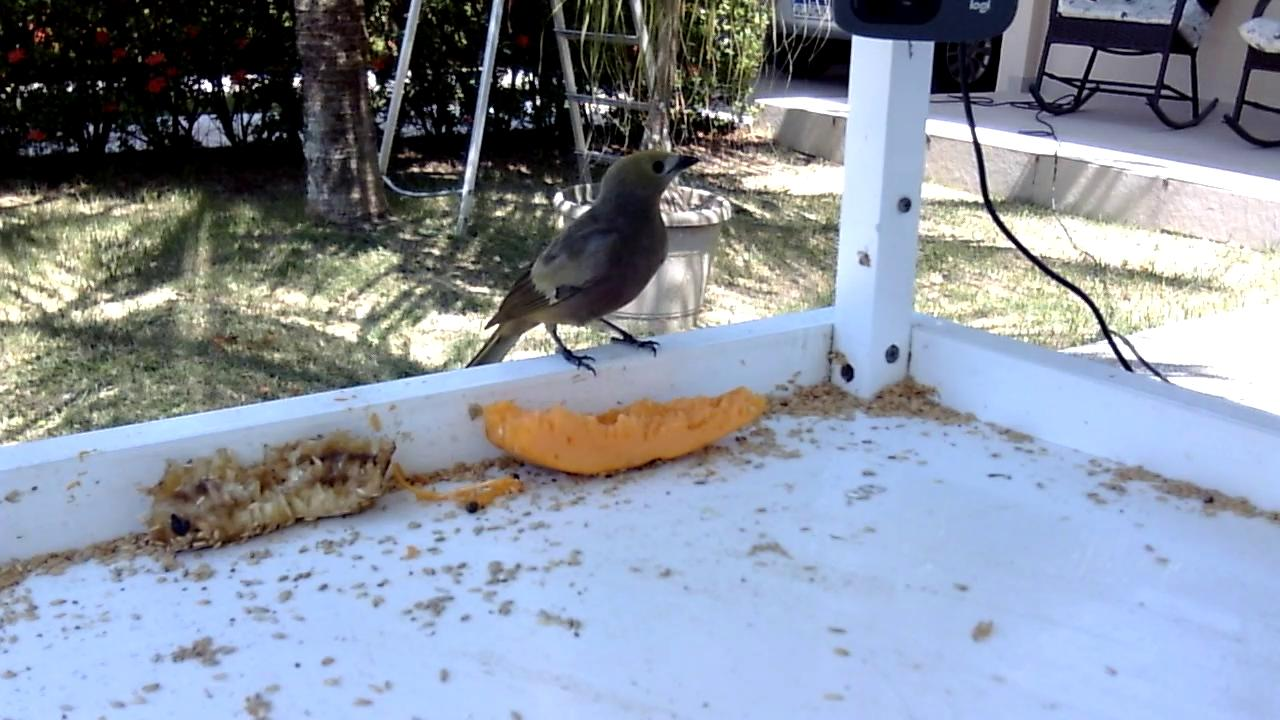sanhaco_do_coqueiro: (466, 149, 705, 382)
